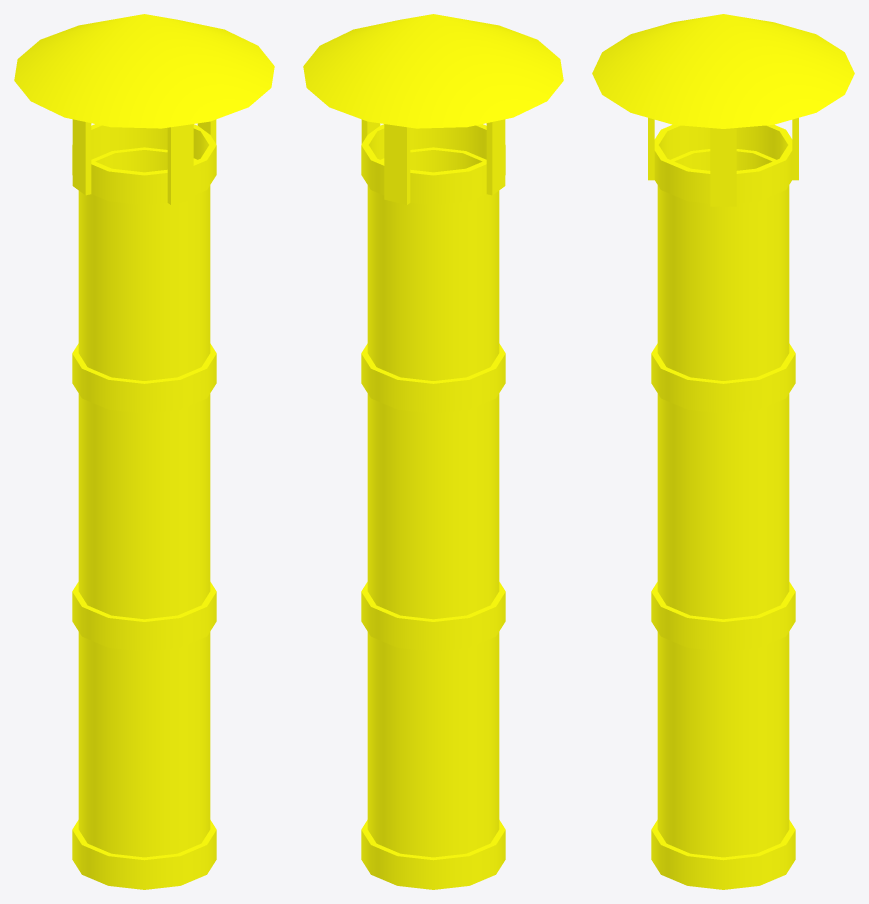
Rendered from chimney_a_2.glb.
The picture shows the model from 3 angles, left to right: view 1: azimuth 30°, elevation 25°; view 2: azimuth 150°, elevation 25°; view 3: azimuth 270°, elevation 25°; orthographic projection.
Visible parts, largest first — view 1: chimney_a_2; view 2: chimney_a_2; view 3: chimney_a_2.
Part boxes in pixels (box(x1,y1,x2,y2)): chimney_a_2: box(14, 14, 274, 889); chimney_a_2: box(303, 14, 563, 889); chimney_a_2: box(592, 14, 854, 889).
Bounding box in the file's own units: 0.4 × 1.42 × 0.4.
Materials: 1 (1 with a texture image).
